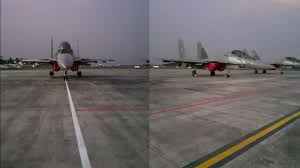maybay_muctieu: (12, 31, 108, 81), (164, 38, 280, 75)
